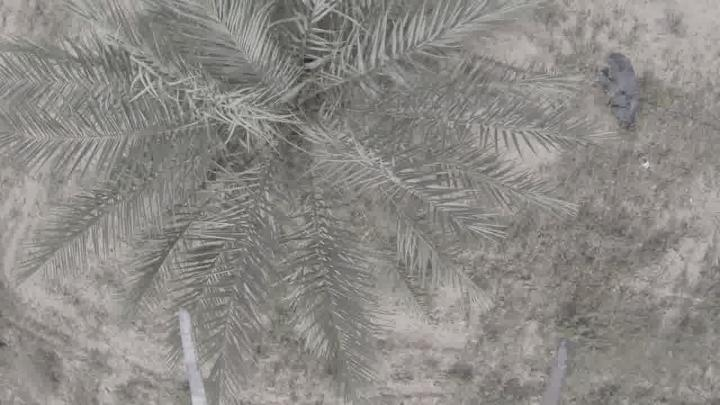Date-Palm-Crown: (151, 4, 438, 250)
